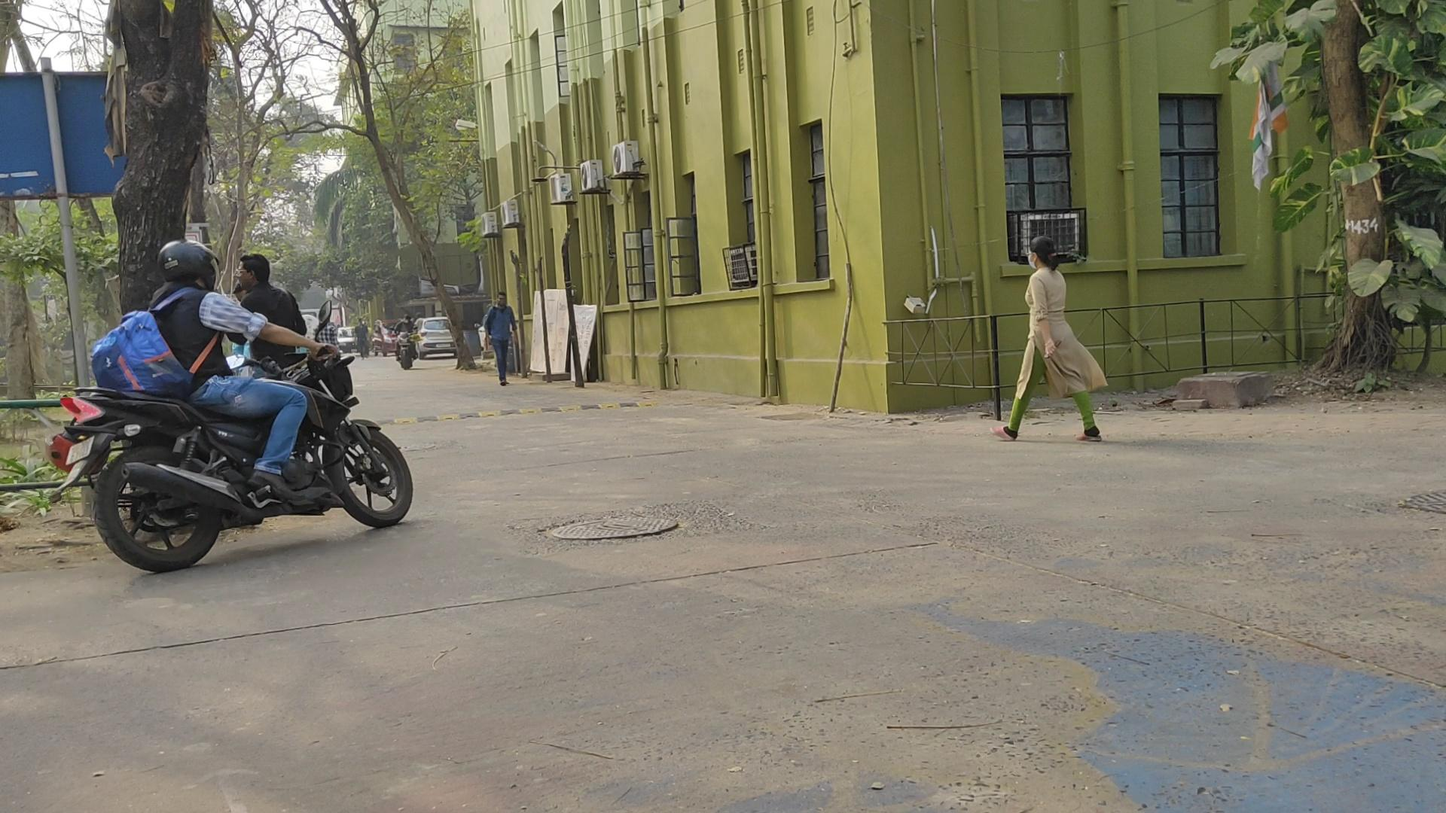bike: (47, 238, 414, 572), (390, 313, 419, 371)
